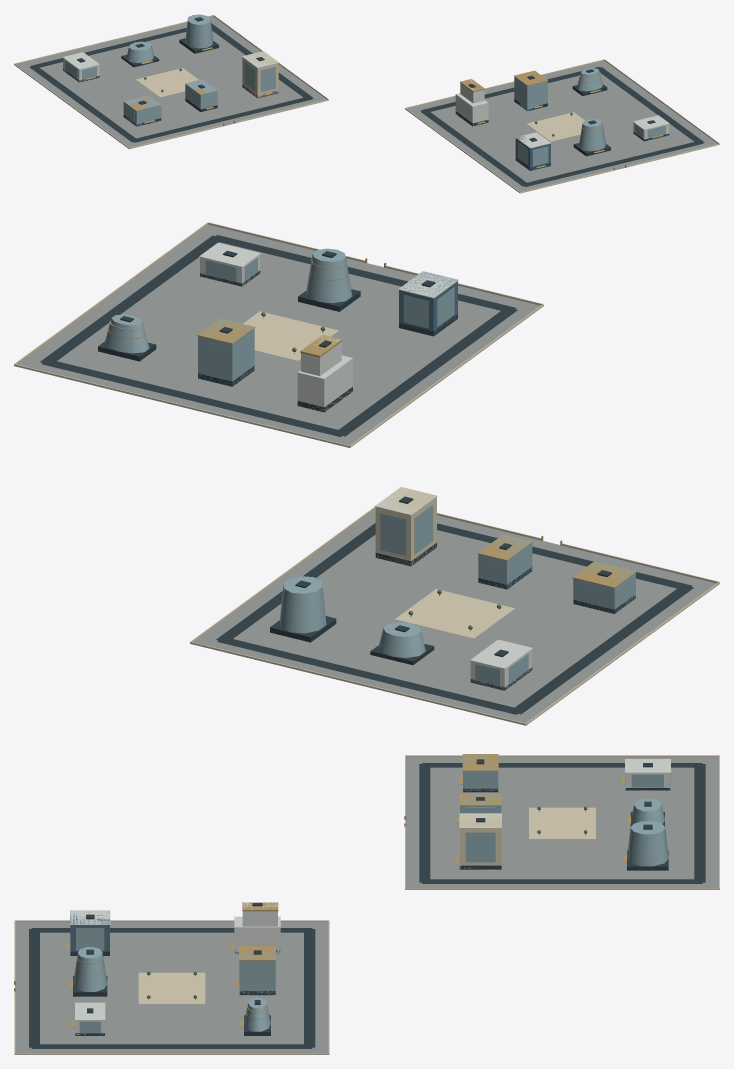
Rendered from GC-TILE-07-25.glb.
3 views of the same model, one above another, from view 1: azimuth 30°, elevation 25°; view 2: azimuth 150°, elevation 25°; view 3: azimuth 270°, elevation 25° (orthographic). The views are drawn at different scales.
Parts seen in each view (by area): view 1: GC-TILE-07-25-paving, GC-TILE-07-25-dark, GC-TILE-07-25-glass, GC-TILE-07-25-ivory, GC-TILE-07-25-white, GC-TILE-07-25-gold, GC-TILE-07-25-blue; view 2: GC-TILE-07-25-paving, GC-TILE-07-25-dark, GC-TILE-07-25-glass, GC-TILE-07-25-ivory, GC-TILE-07-25-white, GC-TILE-07-25-gold, GC-TILE-07-25-blue; view 3: GC-TILE-07-25-paving, GC-TILE-07-25-dark, GC-TILE-07-25-glass, GC-TILE-07-25-ivory, GC-TILE-07-25-white, GC-TILE-07-25-gold, GC-TILE-07-25-blue.
Part boxes in pixels (x1=…): GC-TILE-07-25-paving: x1=16, y1=16, x2=717, y2=191; GC-TILE-07-25-dark: x1=29, y1=17, x2=704, y2=186; GC-TILE-07-25-glass: x1=65, y1=14, x2=665, y2=166; GC-TILE-07-25-ivory: x1=14, y1=15, x2=719, y2=193; GC-TILE-07-25-white: x1=62, y1=51, x2=669, y2=148; GC-TILE-07-25-gold: x1=85, y1=47, x2=663, y2=170; GC-TILE-07-25-blue: x1=515, y1=136, x2=550, y2=170; GC-TILE-07-25-paving: x1=17, y1=224, x2=716, y2=723; GC-TILE-07-25-dark: x1=40, y1=235, x2=693, y2=714; GC-TILE-07-25-glass: x1=104, y1=248, x2=635, y2=685; GC-TILE-07-25-ivory: x1=14, y1=222, x2=719, y2=725; GC-TILE-07-25-white: x1=199, y1=242, x2=532, y2=690; GC-TILE-07-25-gold: x1=108, y1=258, x2=636, y2=615; GC-TILE-07-25-blue: x1=399, y1=272, x2=457, y2=335; GC-TILE-07-25-paving: x1=15, y1=757, x2=718, y2=1052; GC-TILE-07-25-dark: x1=29, y1=759, x2=705, y2=1048; GC-TILE-07-25-glass: x1=73, y1=754, x2=670, y2=1033; GC-TILE-07-25-ivory: x1=14, y1=755, x2=719, y2=1054; GC-TILE-07-25-white: x1=70, y1=759, x2=670, y2=1035; GC-TILE-07-25-gold: x1=14, y1=754, x2=630, y2=1027; GC-TILE-07-25-blue: x1=70, y1=911, x2=109, y2=954.
Bounding box in the file's own units: 759 × 53.58 × 760.
